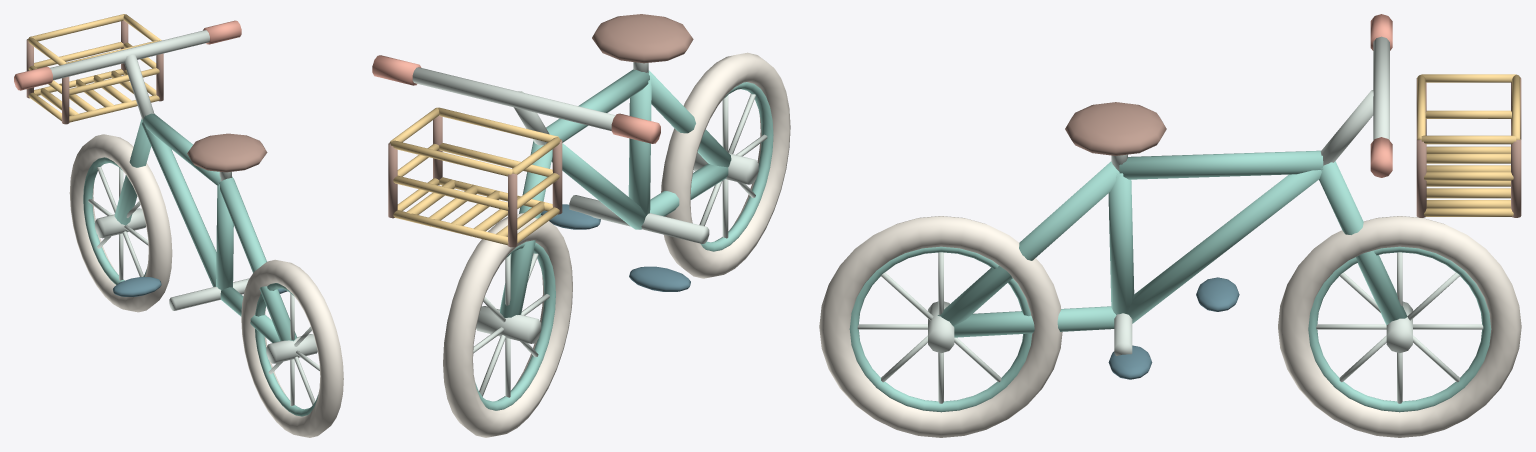
The model's file is bicycle.glb.
The picture shows the model from 3 angles, left to right: view 1: azimuth 30°, elevation 25°; view 2: azimuth 150°, elevation 25°; view 3: azimuth 270°, elevation 25°; orthographic projection. The views are drawn at different scales.
Parts seen in each view (by area): view 1: Bicycle, WheelRear, WheelFront, PedalL; view 2: Bicycle, WheelFront, WheelRear, PedalL, PedalR; view 3: Bicycle, WheelFront, WheelRear, PedalL, PedalR.
Boxes of the visible parts, x1,y1,x2,y2 form: Bicycle: (14,14,296,342); WheelRear: (241,259,343,437); WheelFront: (69,134,172,312); PedalL: (113,277,161,296); Bicycle: (372,14,731,317); WheelFront: (443,213,572,437); WheelRear: (661,52,790,278); PedalL: (629,266,690,291); PedalR: (541,204,600,229); Bicycle: (937,14,1521,355); WheelFront: (1278,216,1521,437); WheelRear: (819,216,1062,437); PedalL: (1196,277,1239,311); PedalR: (1108,345,1152,379).
Size of the model in its own units: 0.93 by 1.07 by 1.93.
